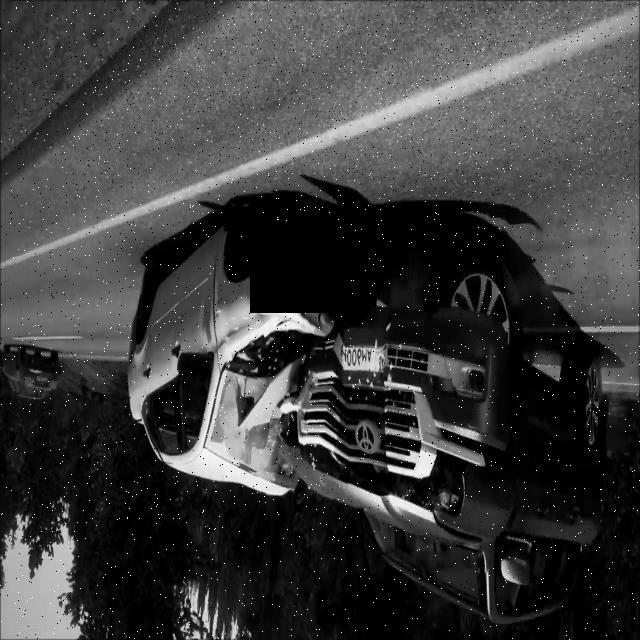severe: (125, 196, 609, 634)
